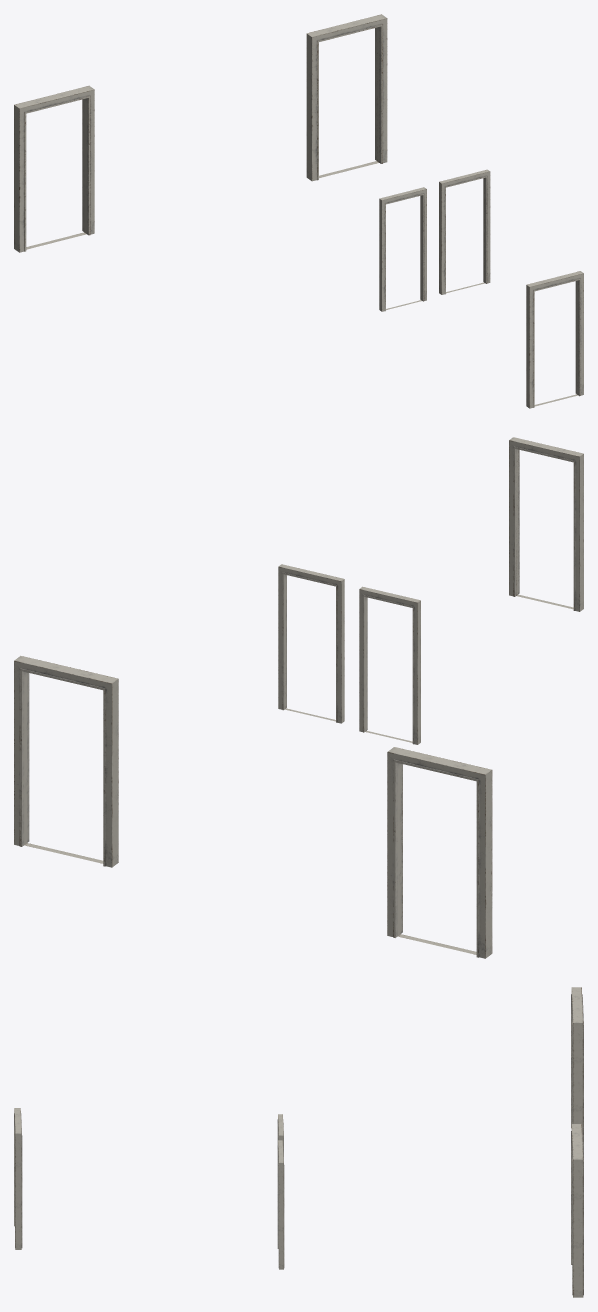
Rendered from MasterFrame.glb.
3 views of the same model, one above another, from view 1: azimuth 30°, elevation 25°; view 2: azimuth 150°, elevation 25°; view 3: azimuth 270°, elevation 25° (orthographic). The views are drawn at different scales.
Parts seen in each view (by area): view 1: Door_low.002_Door_0.003, Door_low.002_Door_0.001, Door_low.002_Door_0.007, Door_low.002_Door_0.004, Door_low.002_Door_0.002; view 2: Door_low.002_Door_0.001, Door_low.002_Door_0.003, Door_low.002_Door_0.007, Door_low.002_Door_0.004, Door_low.002_Door_0.002; view 3: Door_low.002_Door_0.003, Door_low.002_Door_0.001, Door_low.002_Door_0.007, Door_low.002_Door_0.004.
Boxes of the visible parts, bbox=[...] form: Door_low.002_Door_0.003: bbox=[306, 14, 387, 181]; Door_low.002_Door_0.001: bbox=[14, 85, 94, 252]; Door_low.002_Door_0.007: bbox=[526, 271, 583, 408]; Door_low.002_Door_0.004: bbox=[439, 169, 490, 294]; Door_low.002_Door_0.002: bbox=[379, 187, 426, 311]; Door_low.002_Door_0.001: bbox=[387, 747, 492, 958]; Door_low.002_Door_0.003: bbox=[14, 656, 118, 867]; Door_low.002_Door_0.007: bbox=[509, 437, 583, 611]; Door_low.002_Door_0.004: bbox=[278, 564, 344, 723]; Door_low.002_Door_0.002: bbox=[359, 586, 420, 744]; Door_low.002_Door_0.003: bbox=[571, 1124, 583, 1297]; Door_low.002_Door_0.001: bbox=[571, 987, 583, 1157]; Door_low.002_Door_0.007: bbox=[14, 1108, 22, 1249]; Door_low.002_Door_0.004: bbox=[277, 1140, 284, 1269].
Bounding box in the file's own units: 6.22 × 2.32 × 8.7.
Materials: 5 (5 with a texture image).
